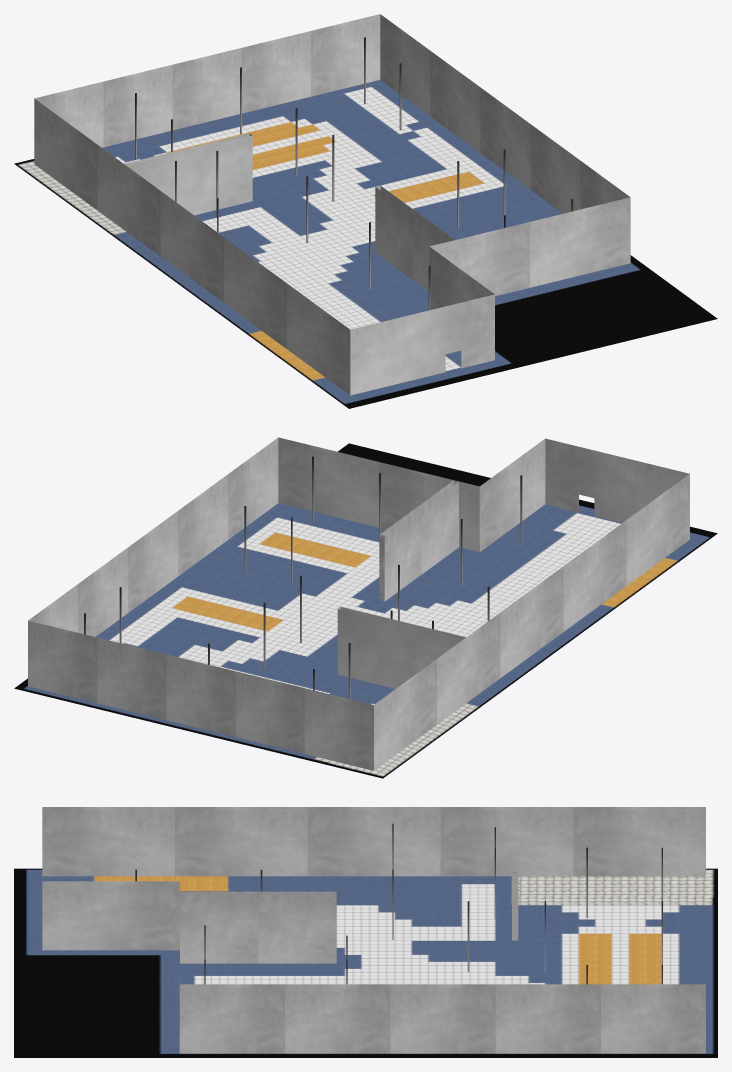
The model's file is Level_1_Floor.fbx.
3 views of the same model, one above another, from view 1: azimuth 30°, elevation 25°; view 2: azimuth 150°, elevation 25°; view 3: azimuth 270°, elevation 25° (orthographic). The views are drawn at different scales.
Parts seen in each view (by area): view 1: polySurface866; view 2: polySurface866; view 3: polySurface866.
Part boxes in pixels (x1,y1,x2,y2): polySurface866: [14, 14, 717, 408]; polySurface866: [14, 437, 717, 778]; polySurface866: [14, 807, 717, 1057].
Bounding box in the file's own units: 53.61 × 9.34 × 84.29.
